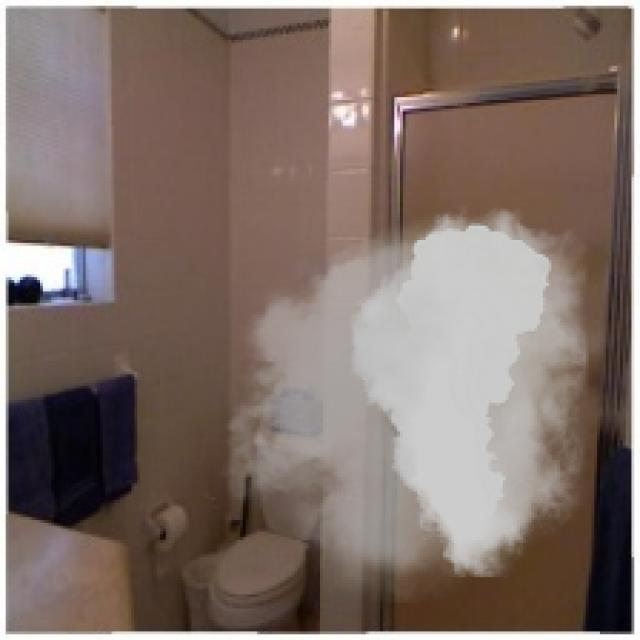Smoke: (203, 197, 620, 603)
